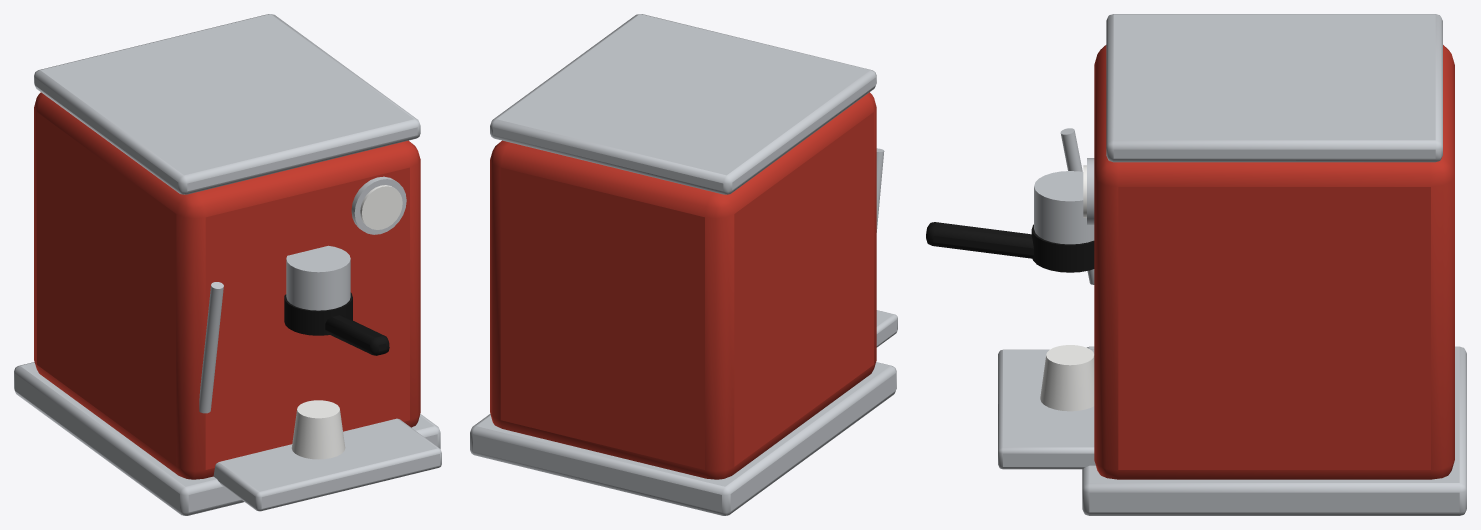
Rendered from espresso_machine.fbx.
The picture shows the model from 3 angles, left to right: view 1: azimuth 30°, elevation 25°; view 2: azimuth 150°, elevation 25°; view 3: azimuth 270°, elevation 25°; orthographic projection. The views are drawn at different scales.
Visible parts, largest first — view 1: Espresso; view 2: Espresso; view 3: Espresso.
Part boxes in pixels (x1=…): Espresso: x1=14, y1=14, x2=441, y2=515; Espresso: x1=470, y1=14, x2=897, y2=515; Espresso: x1=926, y1=14, x2=1466, y2=515.
Bounding box in the file's own units: 0.28 × 0.34 × 0.4499.
